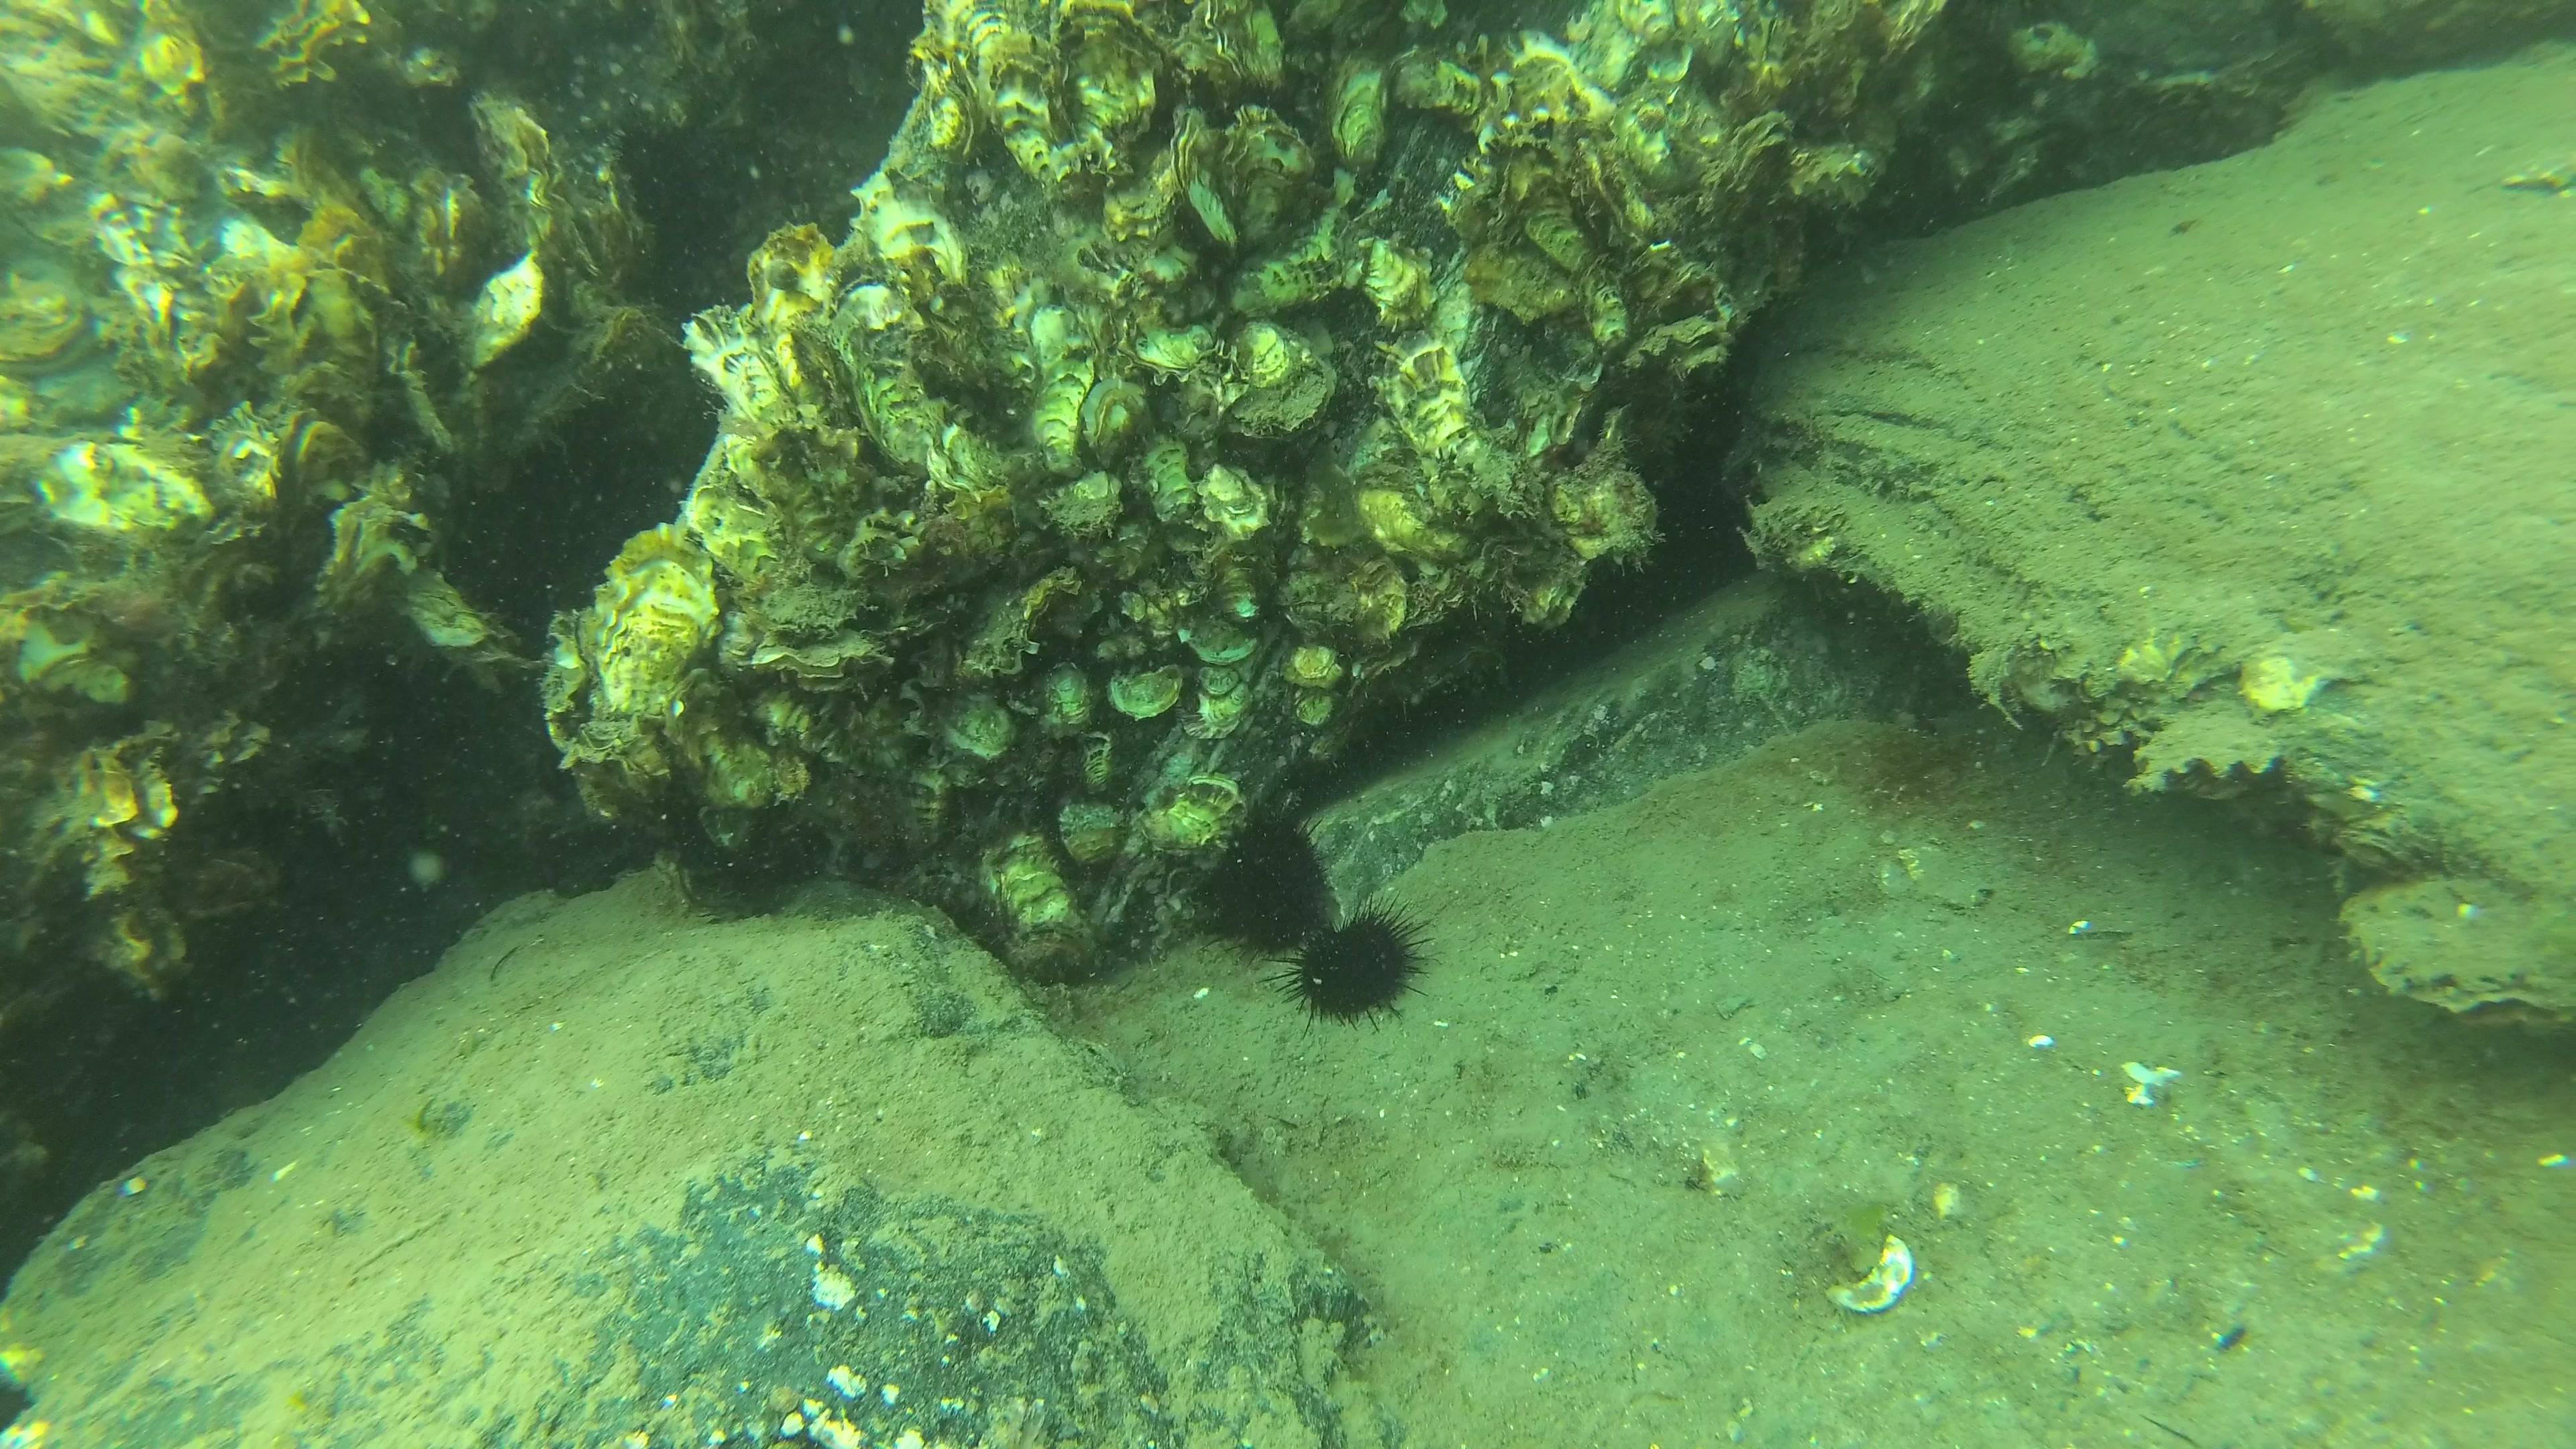echinus: (1277, 906, 1430, 1026), (1207, 828, 1334, 952)
